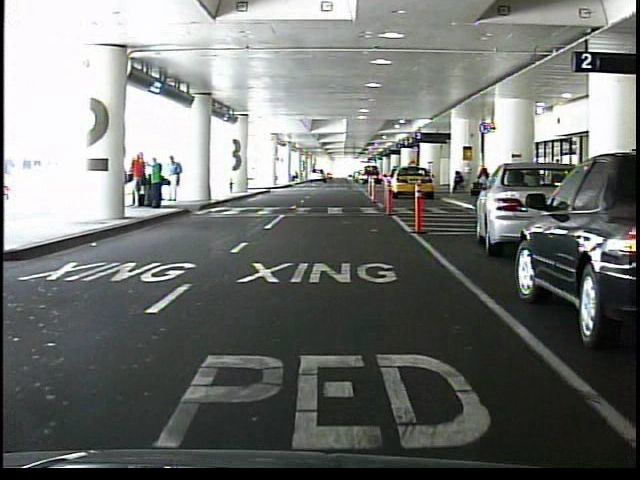person: (149, 156, 165, 209), (132, 151, 146, 207), (169, 155, 184, 204), (477, 163, 491, 195), (450, 171, 465, 195)
